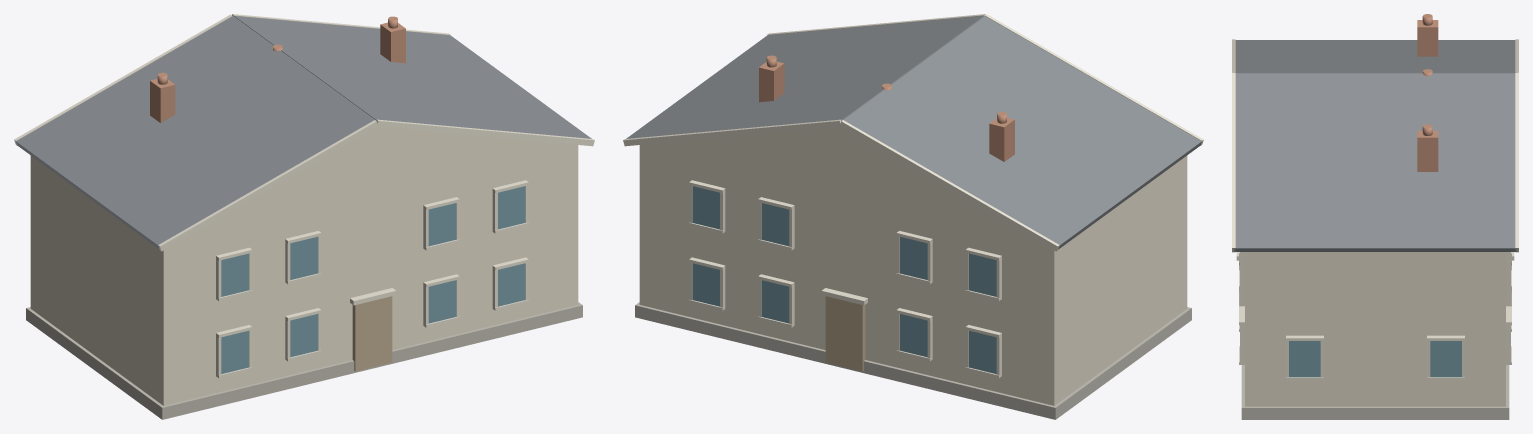
File: rhine-terrace_lod1.glb
3 views of the same model, side by side, from view 1: azimuth 30°, elevation 25°; view 2: azimuth 150°, elevation 25°; view 3: azimuth 270°, elevation 25° (orthographic).
Visible parts, largest first — view 1: RF_Body, RF_Roof.001, RF_Roof, RF_Gable, RF_Foundation, RF_Door.001, RF_Vergeband.001, RF_Vergeband.003, RF_Window.005, RF_Window.006, RF_Window.007, RF_Window.002 (+7 smaller); view 2: RF_Body, RF_Roof.001, RF_Roof, RF_Gable.001, RF_Foundation, RF_Door, RF_Vergeband.002, RF_Vergeband, RF_Window.013, RF_Window.014, RF_Window.015, RF_Window.010 (+7 smaller); view 3: RF_Roof, RF_Body, RF_Roof.001, RF_Foundation, RF_Window.017, RF_Window, RF_Chimney, RF_Chimney.001, RF_Vergeband.003, RF_Vergeband.
Part boxes in pixels (x1,y1,x2,y2): RF_Body: (30, 144, 578, 405); RF_Roof.001: (15, 16, 373, 249); RF_Roof: (234, 16, 591, 138); RF_Gable: (190, 127, 564, 235); RF_Foundation: (26, 302, 582, 419); RF_Door.001: (352, 296, 392, 371); RF_Vergeband.001: (158, 120, 377, 251); RF_Vergeband.003: (376, 119, 594, 146); RF_Window.005: (428, 280, 456, 323); RF_Window.006: (428, 203, 456, 246); RF_Window.007: (498, 263, 525, 306); RF_Window.002: (221, 253, 248, 296); RF_Body: (639, 144, 1187, 405); RF_Roof.001: (844, 16, 1201, 249); RF_Roof: (626, 15, 984, 138); RF_Gable.001: (653, 127, 1027, 235); RF_Foundation: (635, 302, 1191, 419); RF_Door: (825, 296, 865, 371); RF_Vergeband.002: (840, 120, 1059, 251); RF_Vergeband: (623, 119, 841, 146); RF_Window.013: (761, 280, 789, 323); RF_Window.014: (761, 203, 789, 246); RF_Window.015: (692, 263, 719, 306); RF_Window.010: (969, 253, 996, 296); RF_Roof: (1234, 73, 1516, 251); RF_Body: (1245, 252, 1505, 406); RF_Roof.001: (1235, 40, 1515, 73); RF_Foundation: (1241, 365, 1509, 419); RF_Window.017: (1289, 341, 1320, 377); RF_Window: (1430, 341, 1461, 377); RF_Chimney: (1417, 130, 1438, 171); RF_Chimney.001: (1417, 20, 1438, 56); RF_Vergeband.003: (1232, 73, 1235, 252); RF_Vergeband: (1515, 73, 1518, 252).
Bounding box in the file's own units: 18.87 × 10.47 × 10.98.
